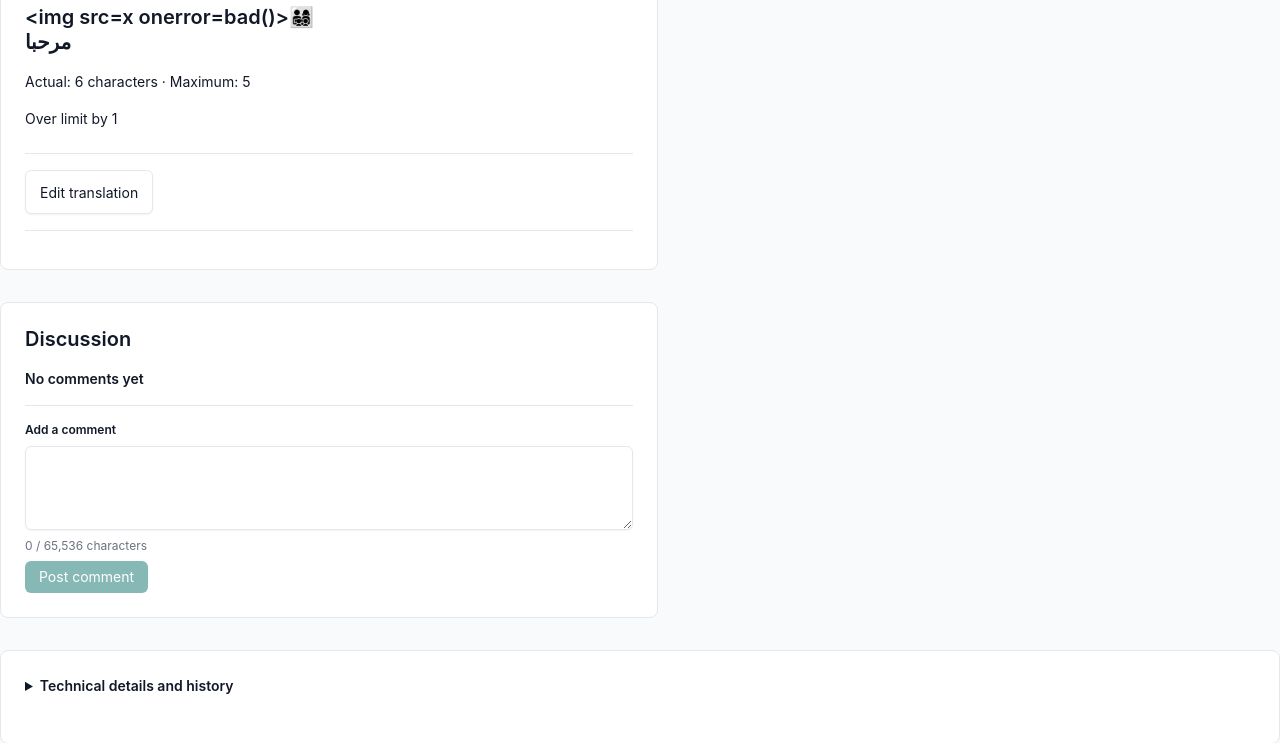
Test: Translation detail — SRCH-06 SRCH-07 CONS-03, populated/long-text/partial › opens a versioned removal confirmation from the detail action
(page scrolled)
Click the heading "Technical details and history".
click(137, 685)  # box [40, 677, 234, 694]
(page scrolled)
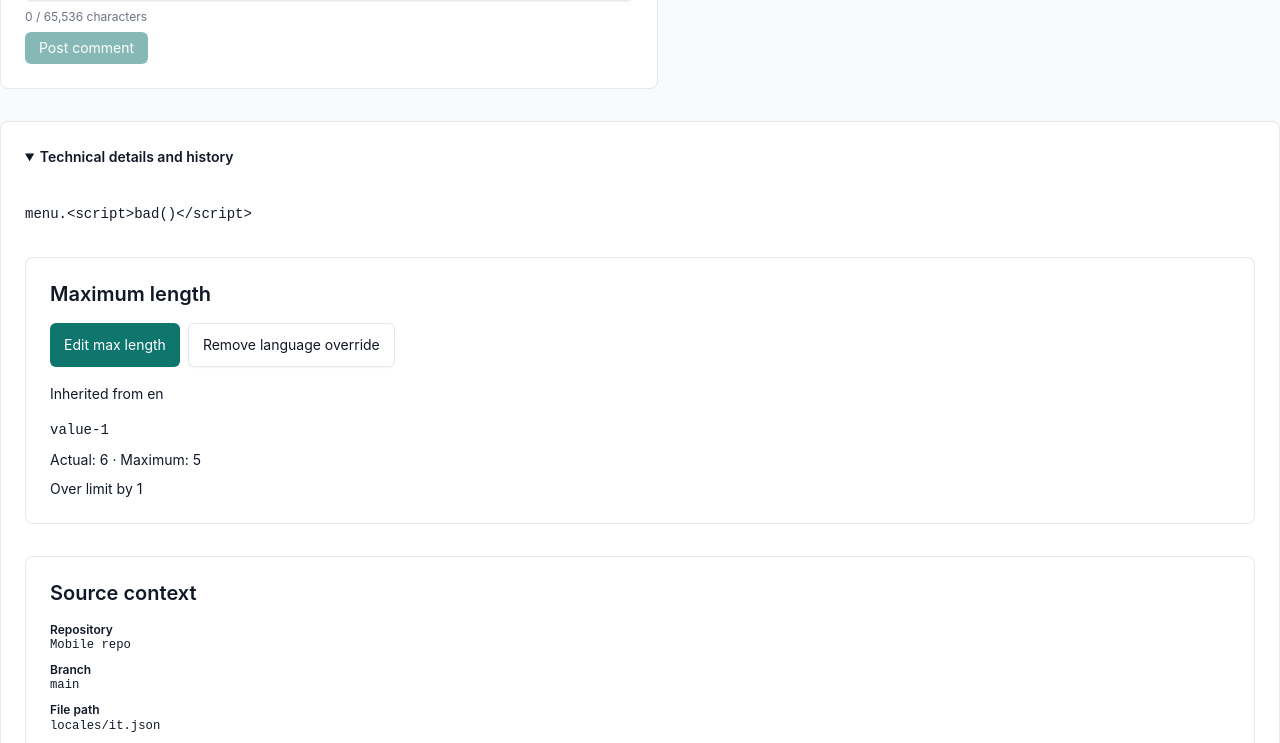
Click the button "Remove language override".
click(291, 345)  # box [188, 323, 395, 367]
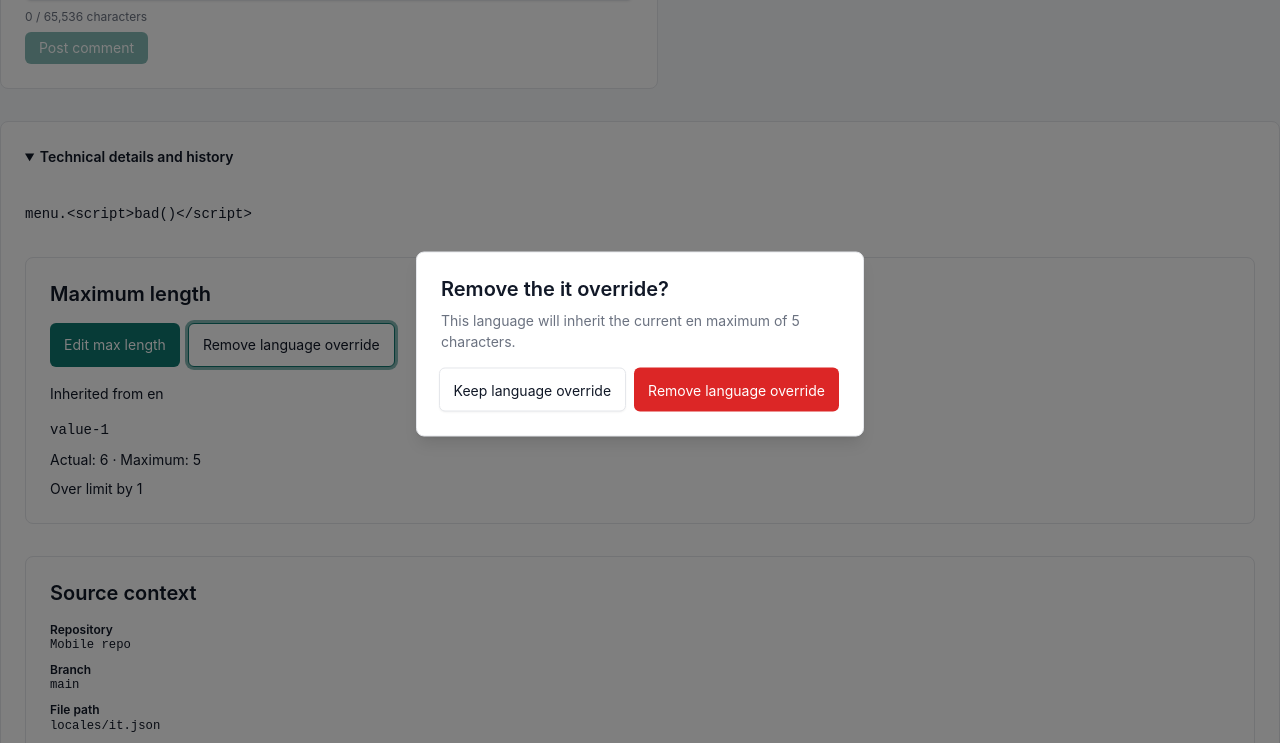
Expected: the dialog shows "Remove", [441, 276, 669, 300]
Expected: the dialog shows "inherit", [441, 312, 800, 350]
